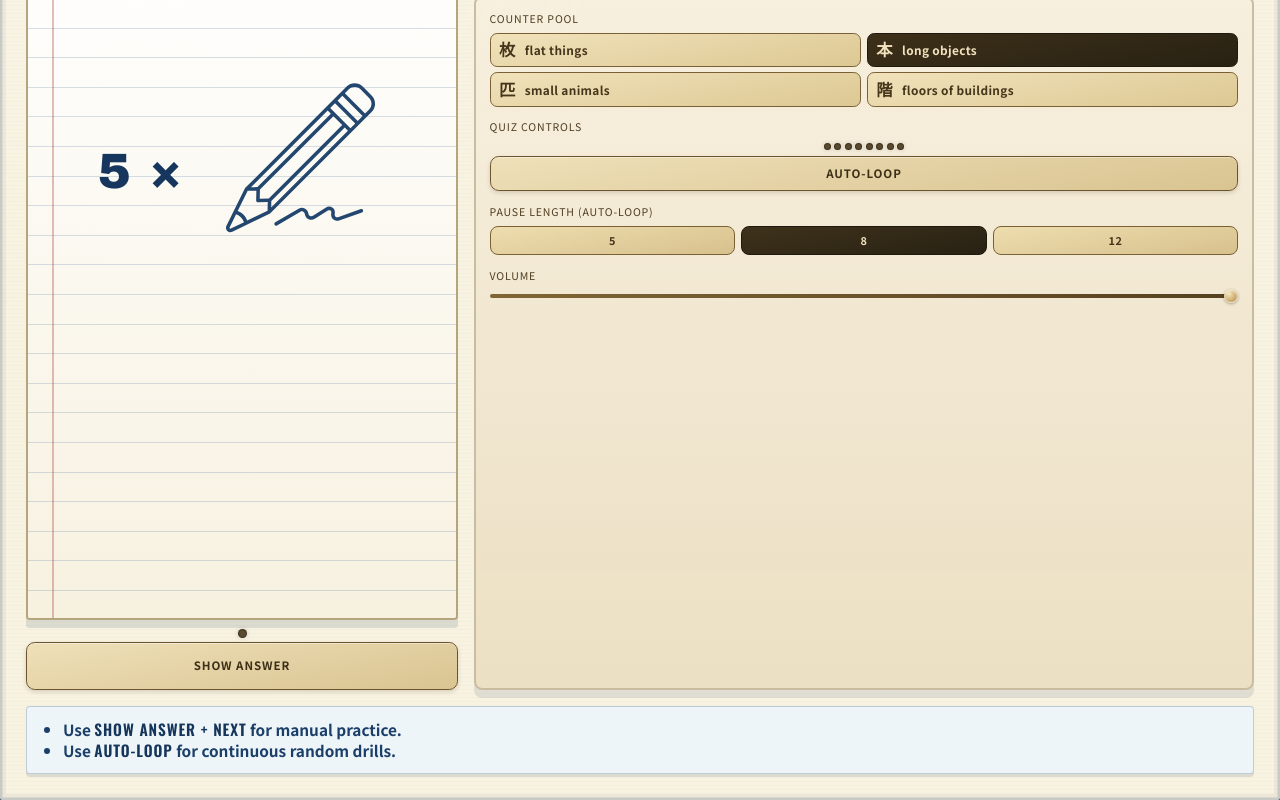
Test: JapaneseCounterPracticeToolPage › reveals answer with ruby furigana
(page scrolled)
Click the button "Show Answer" at (242,666), box left=26, top=642, right=458, bottom=690
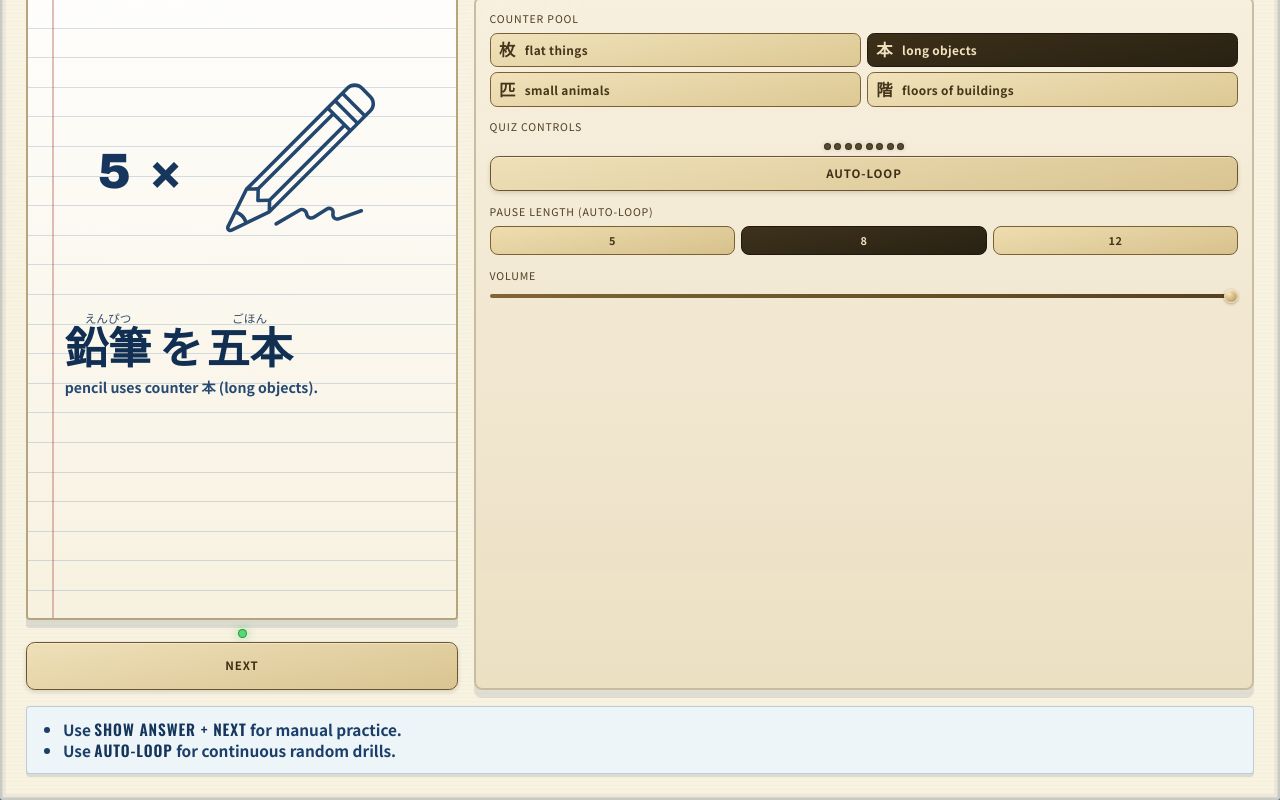
Check: the text "えんぴつ" is shown, box left=65, top=308, right=151, bottom=326
Check: the text "ごほん" is shown, box left=206, top=308, right=293, bottom=326
Check: the text "五本" is shown, box left=206, top=314, right=293, bottom=376
